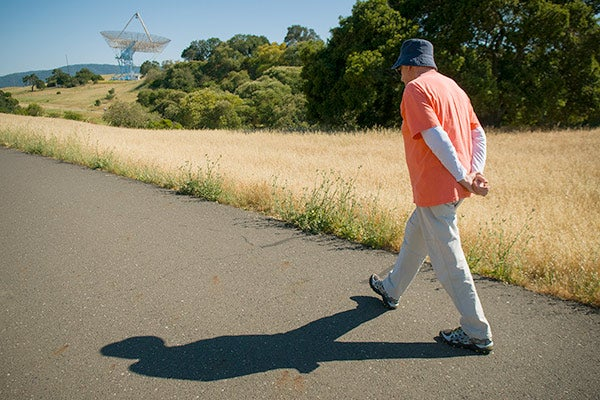Person: (363, 37, 504, 362)
